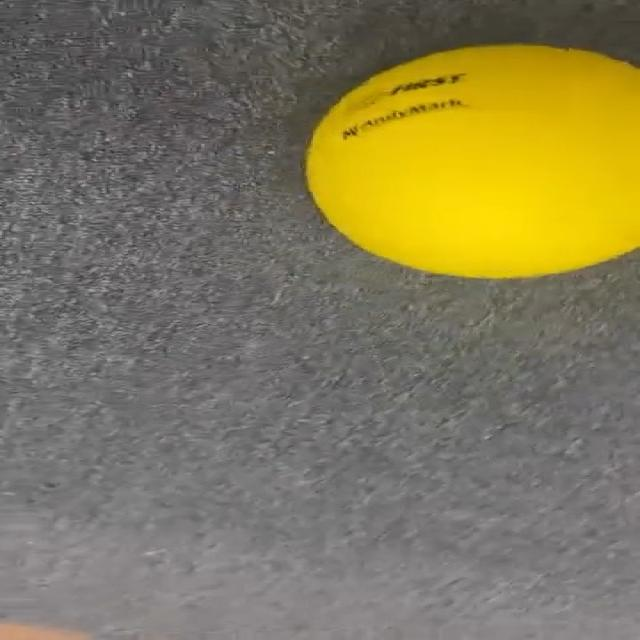Fuels: (298, 42, 640, 278)
